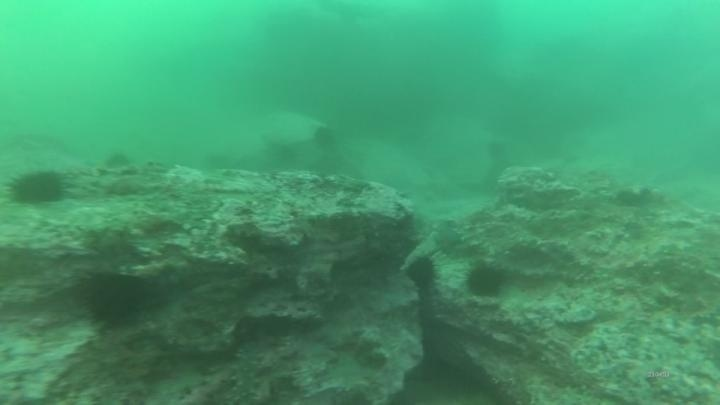echinus: (78, 267, 152, 332), (6, 166, 69, 209), (463, 260, 508, 301), (404, 253, 440, 292), (101, 144, 133, 175), (308, 121, 338, 150)
holothurian: (225, 339, 267, 405)
